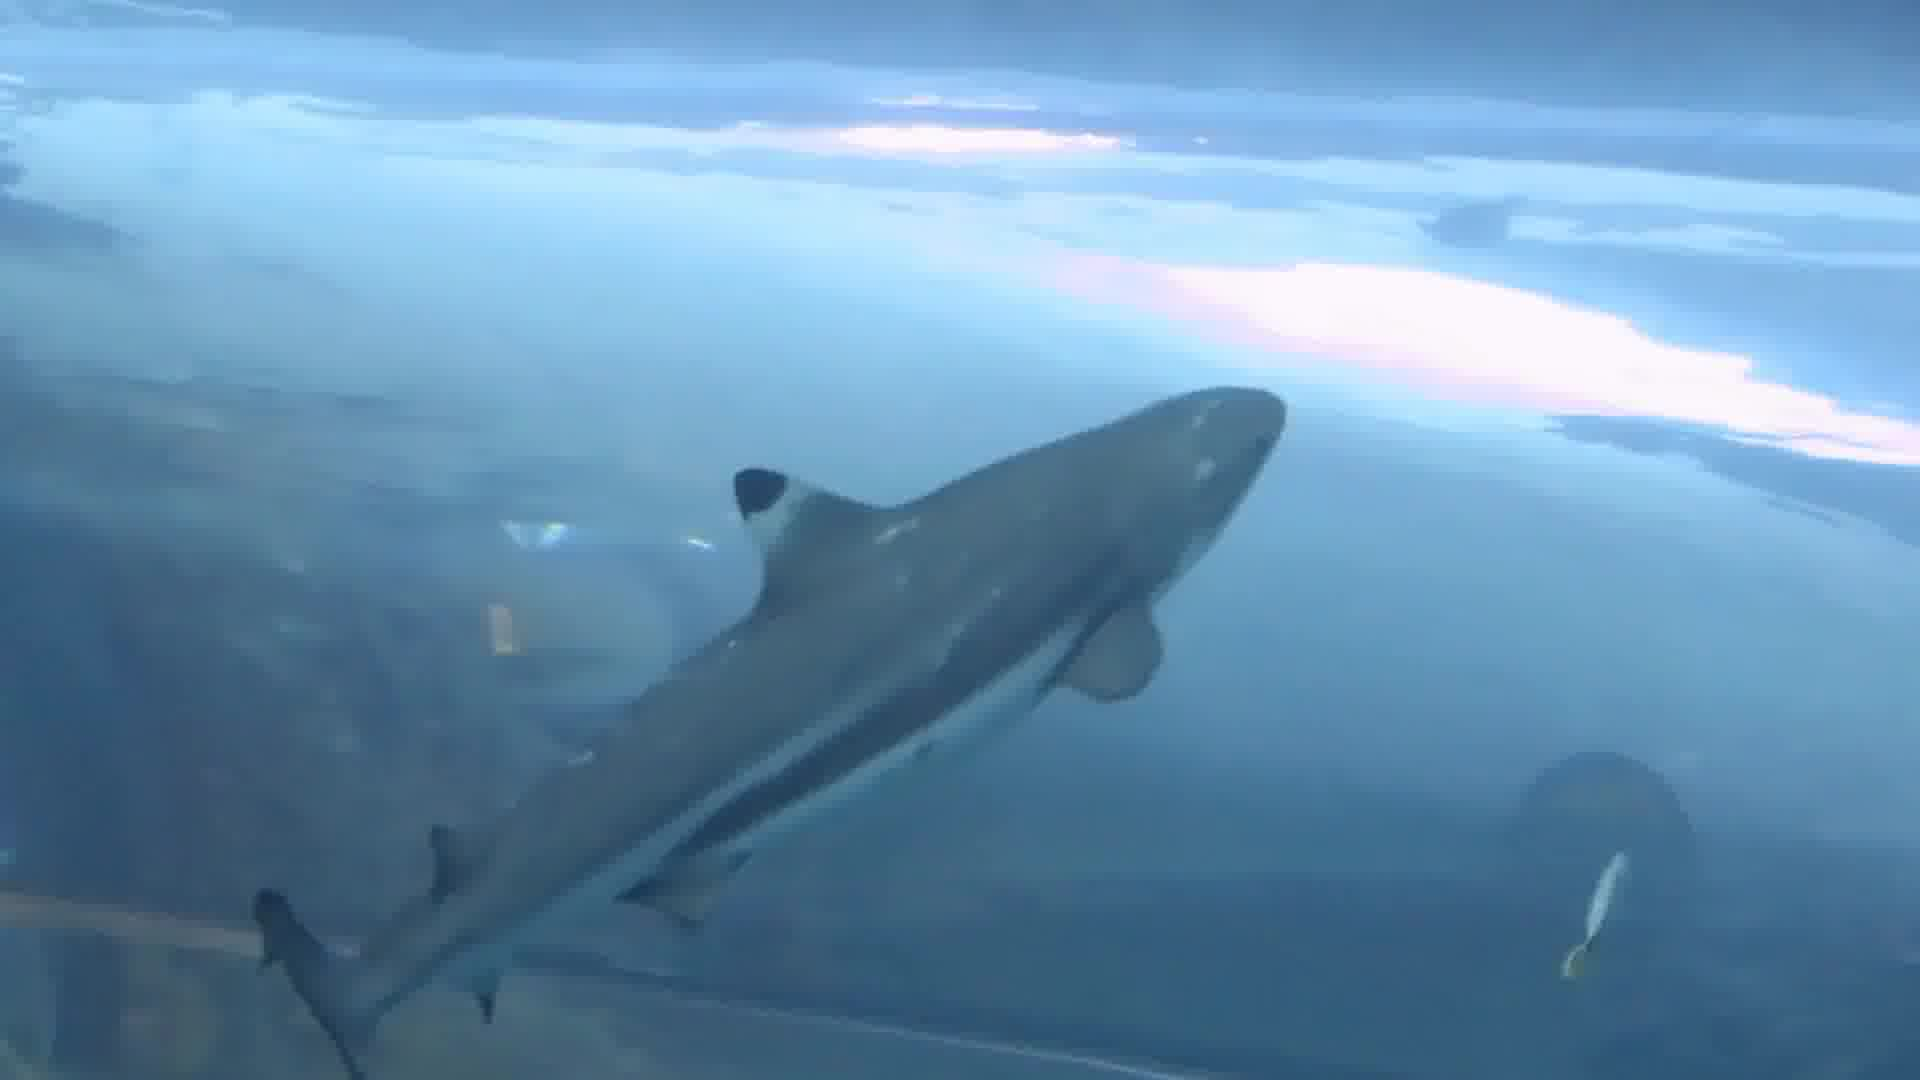Carcharhinus melanopterus: (3, 363, 1333, 1038)
